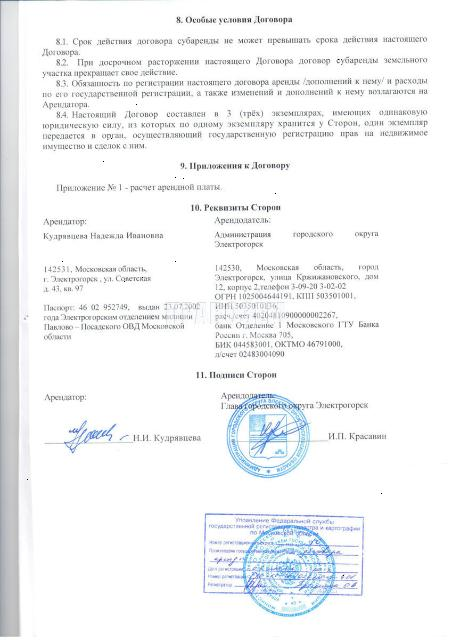stamp: (246, 526, 334, 616), (222, 394, 311, 478)
